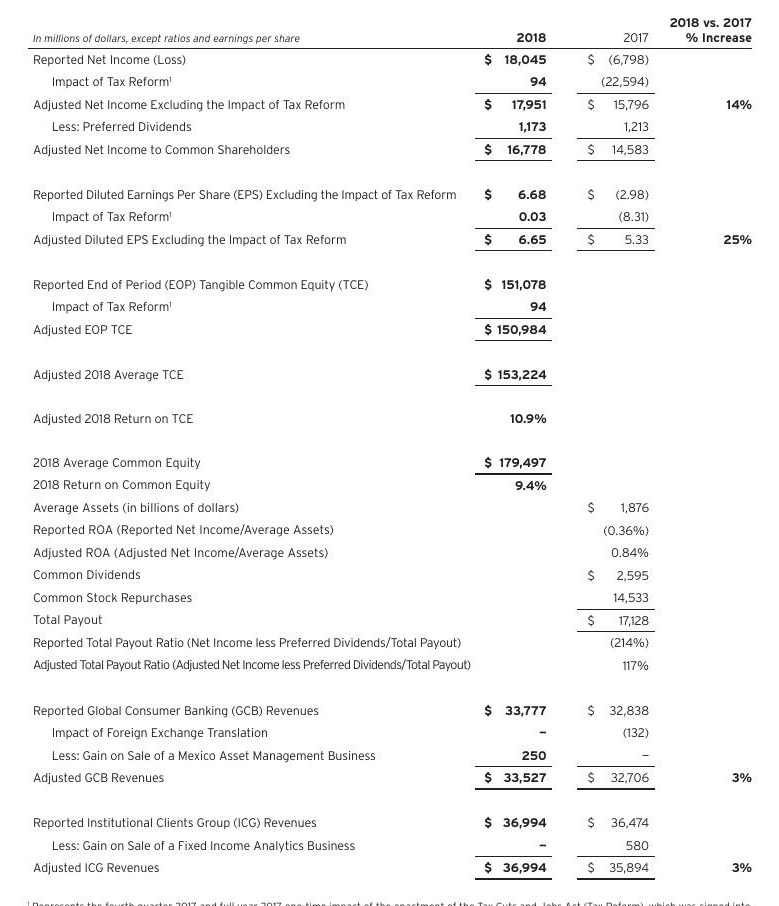table: (0, 0, 779, 906)
